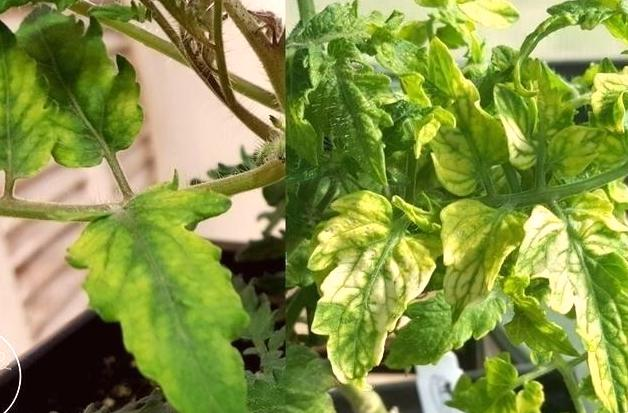Tomato leaf yellow virus: (57, 171, 266, 413), (510, 189, 628, 413), (311, 193, 433, 393), (7, 9, 144, 186), (419, 203, 530, 342), (420, 50, 502, 214), (496, 70, 601, 189), (0, 24, 55, 184), (440, 359, 548, 413)
